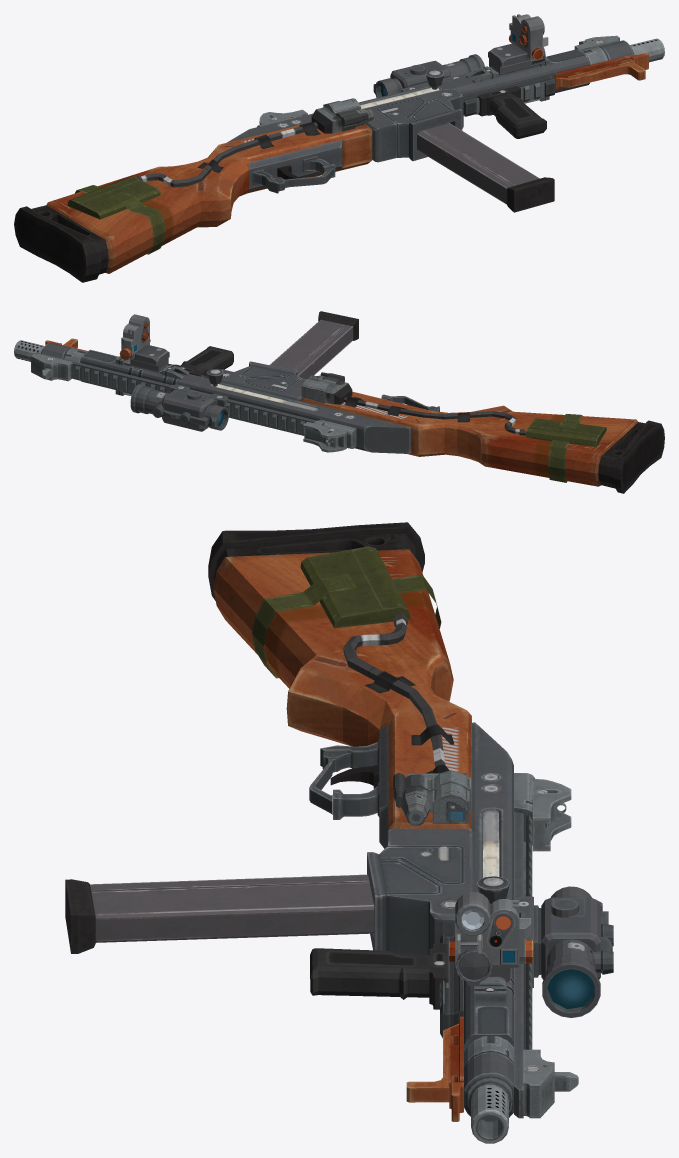
3 renders of one model, top to bottom at view 1: azimuth 30°, elevation 25°; view 2: azimuth 150°, elevation 25°; view 3: azimuth 270°, elevation 25°, orthographic. The views are drawn at different scales.
Visible parts, largest first — view 1: wp01d_a001a_sm.mo, wp01d_magazine001a_sm.mo, wp01d_attach001a_sm.mo, wp01d_scope001a_sm.mo, wp01d_muzzle001a_sm.mo; view 2: wp01d_a001a_sm.mo, wp01d_scope001a_sm.mo, wp01d_magazine001a_sm.mo, wp01d_attach001a_sm.mo, wp01d_muzzle001a_sm.mo; view 3: wp01d_a001a_sm.mo, wp01d_magazine001a_sm.mo, wp01d_scope001a_sm.mo, wp01d_attach001a_sm.mo, wp01d_muzzle001a_sm.mo.
Part boxes in pixels (box(x1,y1,x2,y2)): wp01d_a001a_sm.mo: box(14, 35, 648, 282); wp01d_magazine001a_sm.mo: box(417, 123, 554, 212); wp01d_attach001a_sm.mo: box(488, 14, 548, 74); wp01d_scope001a_sm.mo: box(373, 54, 484, 97); wp01d_muzzle001a_sm.mo: box(630, 38, 664, 62); wp01d_a001a_sm.mo: box(31, 338, 664, 493); wp01d_scope001a_sm.mo: box(130, 383, 228, 431); wp01d_magazine001a_sm.mo: box(269, 311, 358, 379); wp01d_attach001a_sm.mo: box(119, 314, 169, 372); wp01d_muzzle001a_sm.mo: box(14, 340, 44, 361); wp01d_a001a_sm.mo: box(208, 522, 578, 1121); wp01d_magazine001a_sm.mo: box(65, 874, 374, 953); wp01d_scope001a_sm.mo: box(514, 886, 613, 1017); wp01d_attach001a_sm.mo: box(449, 892, 532, 985); wp01d_muzzle001a_sm.mo: box(471, 1085, 508, 1143).
Bounding box in the file's own units: 0.7012 × 0.0861 × 0.284.
Materials: 5 (5 with a texture image).
